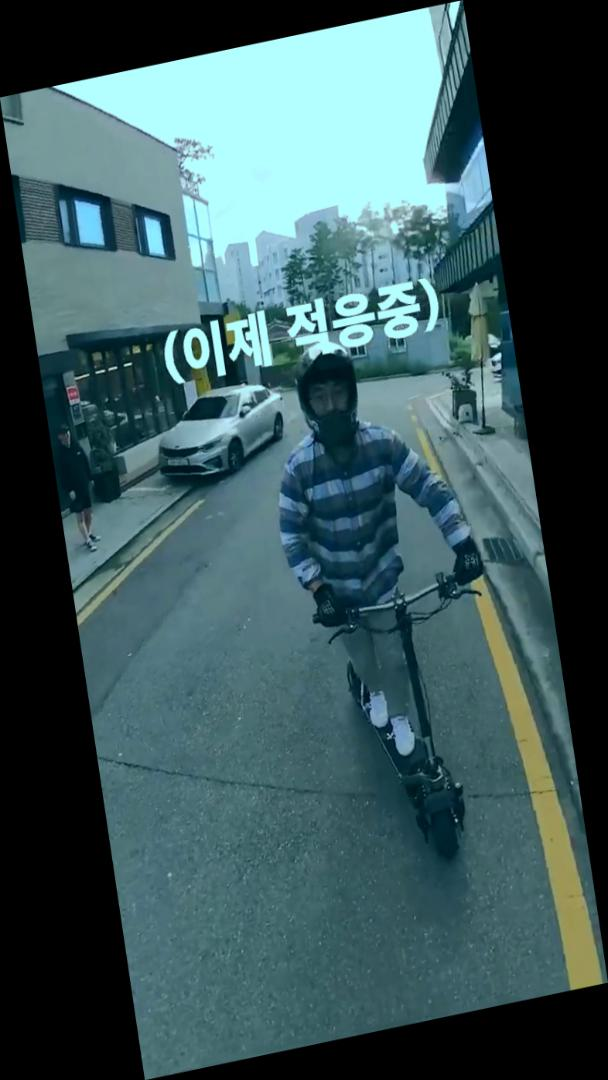helmet: (254, 313, 527, 887)
